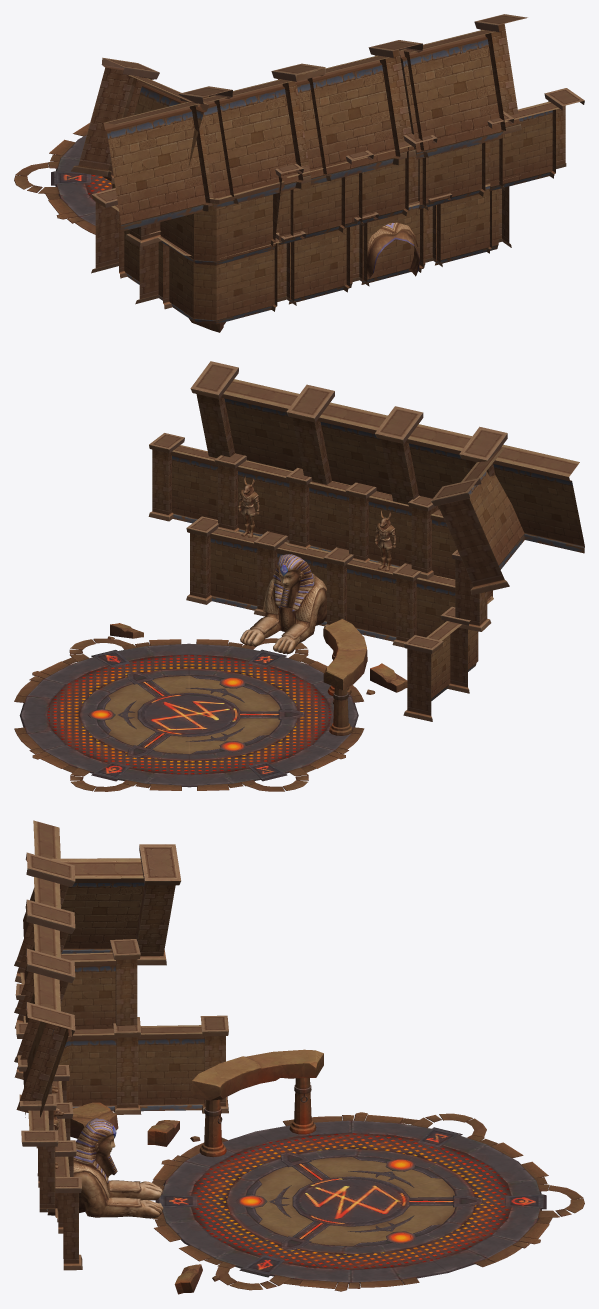
Rendered from boss_03.FBX.
3 views of the same model, one above another, from view 1: azimuth 30°, elevation 25°; view 2: azimuth 150°, elevation 25°; view 3: azimuth 270°, elevation 25° (orthographic). The views are drawn at different scales.
Visible parts, largest first — view 1: boss_03; view 2: boss_03; view 3: boss_03.
Part boxes in pixels (<box>): boss_03: <box>14,14,584,332</box>; boss_03: <box>14,361,584,791</box>; boss_03: <box>14,820,584,1294</box>.
Bounding box in the file's own units: 4666 × 2463 × 4808.
